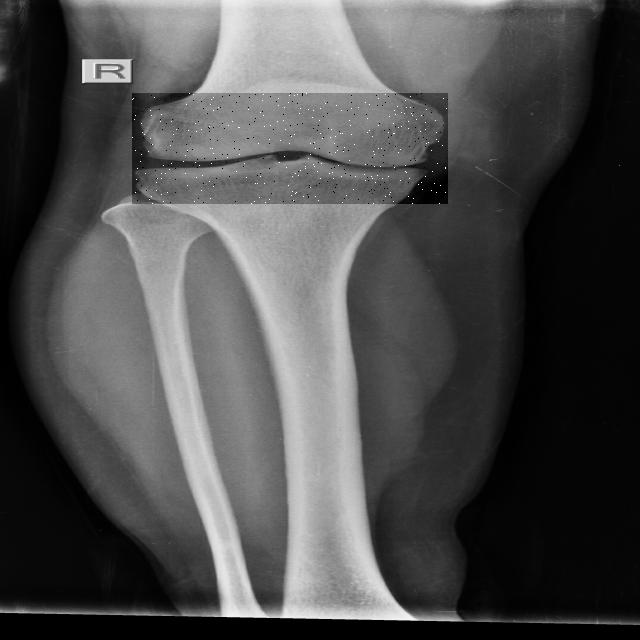normal: (132, 93, 448, 204)
